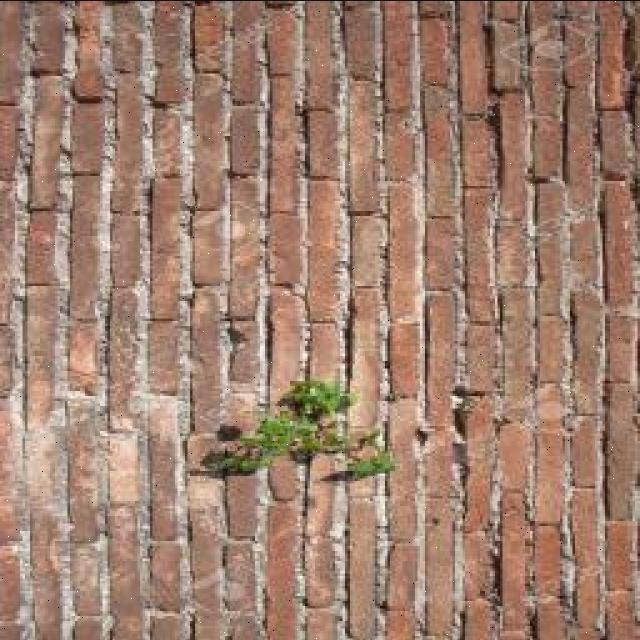crack: (1, 1, 638, 638), (37, 9, 87, 627), (7, 14, 49, 631), (166, 11, 201, 635), (88, 0, 122, 425), (250, 0, 275, 433), (190, 80, 232, 209), (29, 76, 69, 204), (150, 180, 193, 297), (189, 296, 232, 412), (70, 86, 114, 190), (345, 86, 381, 206), (147, 4, 189, 104), (303, 4, 343, 107), (533, 182, 573, 282), (421, 84, 462, 179), (350, 212, 391, 300), (499, 97, 533, 198), (192, 210, 235, 289), (268, 210, 308, 290), (307, 107, 344, 186), (344, 4, 381, 82), (491, 14, 527, 94), (229, 104, 266, 180), (187, 465, 230, 477)
dampness: (211, 467, 272, 640)
vegetation: (199, 375, 396, 481), (103, 283, 166, 413), (597, 168, 638, 222), (200, 445, 274, 474), (621, 10, 640, 85), (226, 323, 251, 349)
